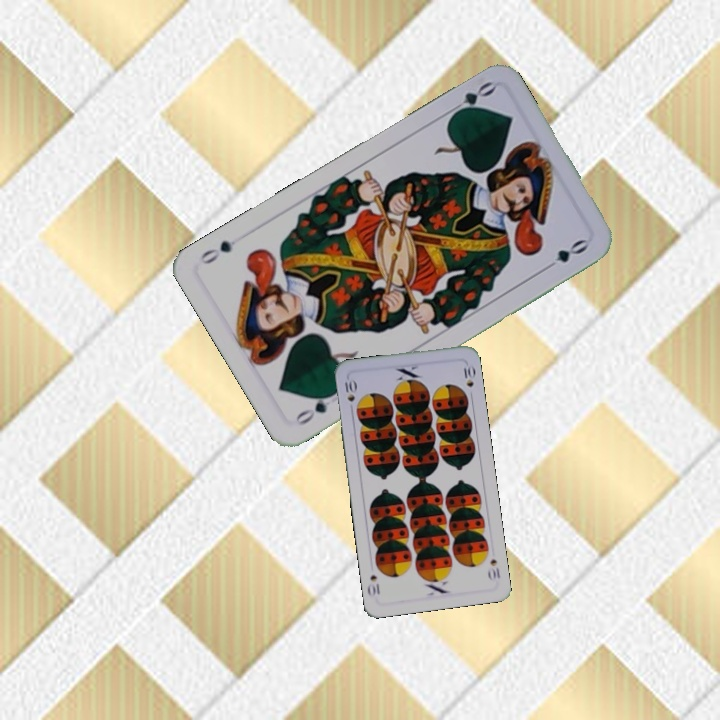GO: (443, 77, 498, 121), (290, 386, 341, 428)
S10: (341, 374, 358, 415), (484, 555, 503, 583)
